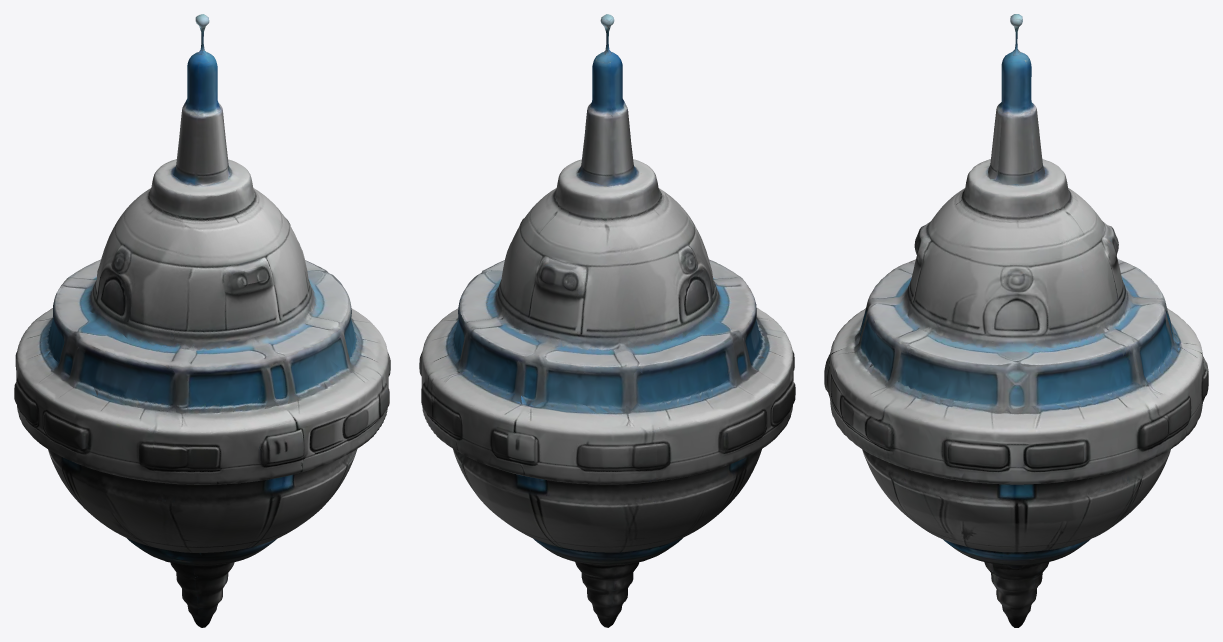
File: floatingdrone.glb
The picture shows the model from 3 angles, left to right: view 1: azimuth 30°, elevation 25°; view 2: azimuth 150°, elevation 25°; view 3: azimuth 270°, elevation 25°; orthographic projection.
Visible parts, largest first — view 1: FloatingDrone; view 2: FloatingDrone; view 3: FloatingDrone.
Boxes of the visible parts, <box> form: FloatingDrone: <box>14,14,390,627</box>; FloatingDrone: <box>419,14,795,627</box>; FloatingDrone: <box>824,14,1208,627</box>.
Bounding box in the file's own units: 0.5064 × 0.9 × 0.5113.
1 material, 1 textured.
